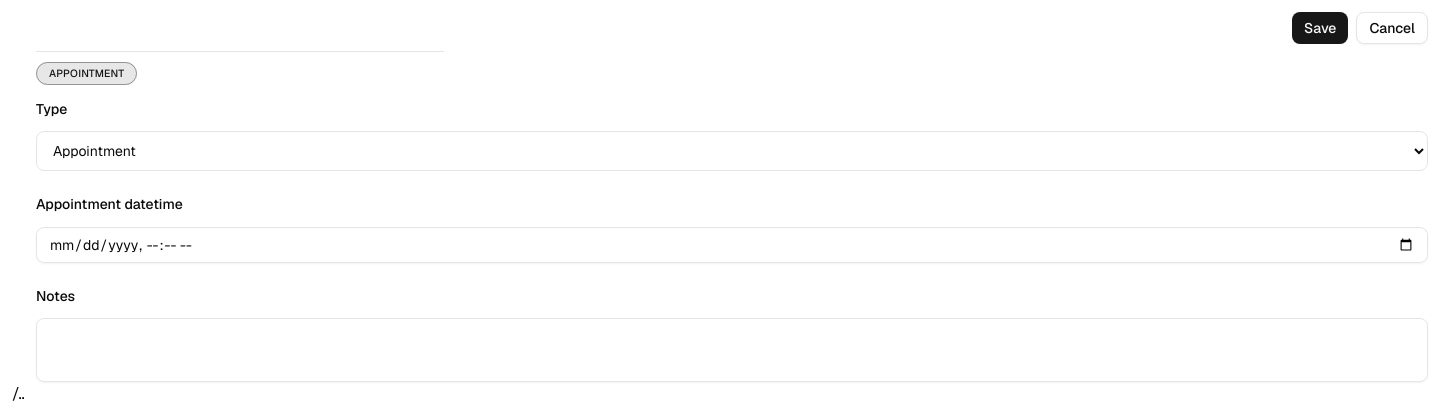
Scenario: EventDetail › create mode › hides appointment datetime field when type is not APPOINTMENT in create mode
Check: the field labelled "Appointment datetime" is shown, box [36,226,1428,262]
Select "Note" in the dropdown labelled "Type". click: (732, 151)
box: [36,131,1428,171]
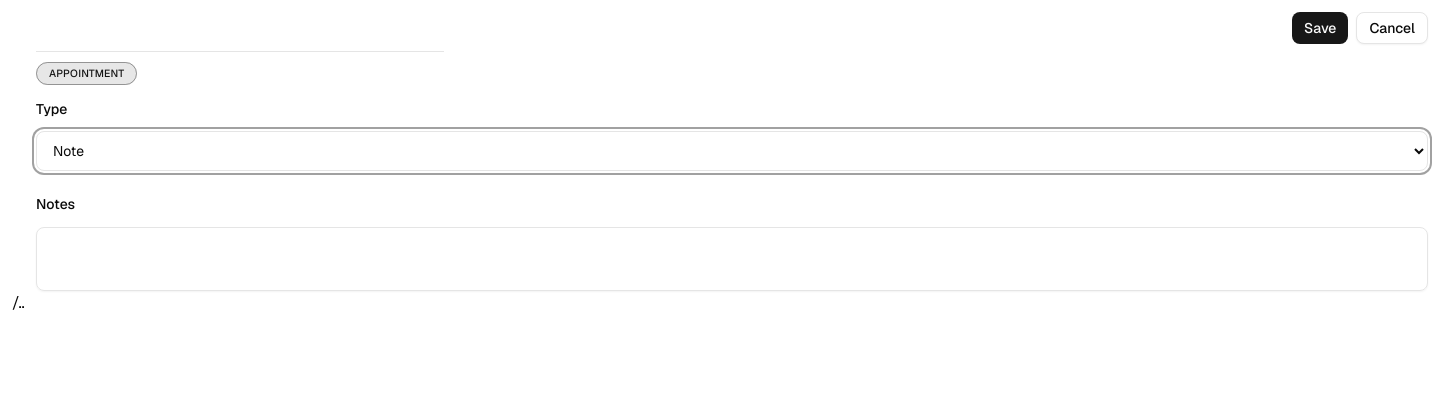
Check: the label labelled "Appointment datetime" is gone
